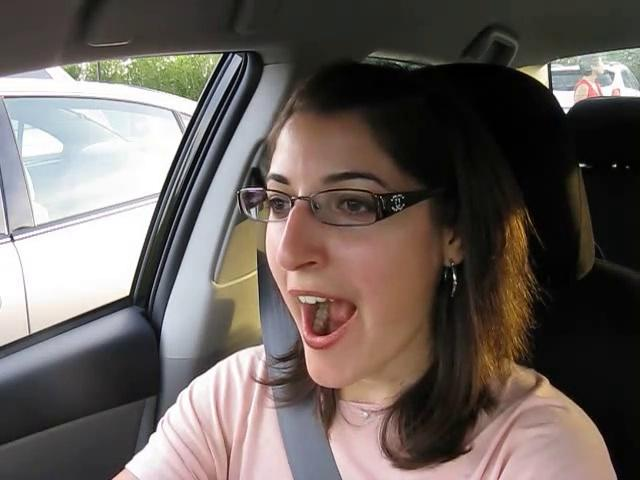open_eyeL: (245, 186, 309, 229)
open_eyeR: (312, 183, 394, 234)
yawn: (272, 280, 376, 359)
